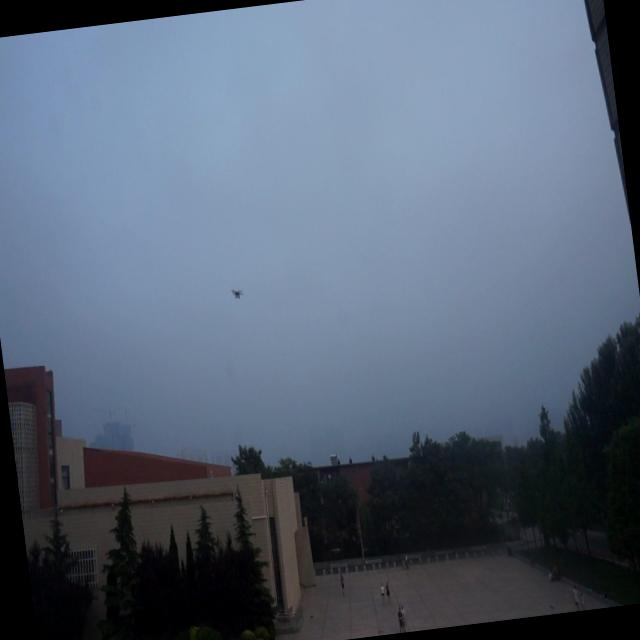drone: (227, 282, 245, 305)
